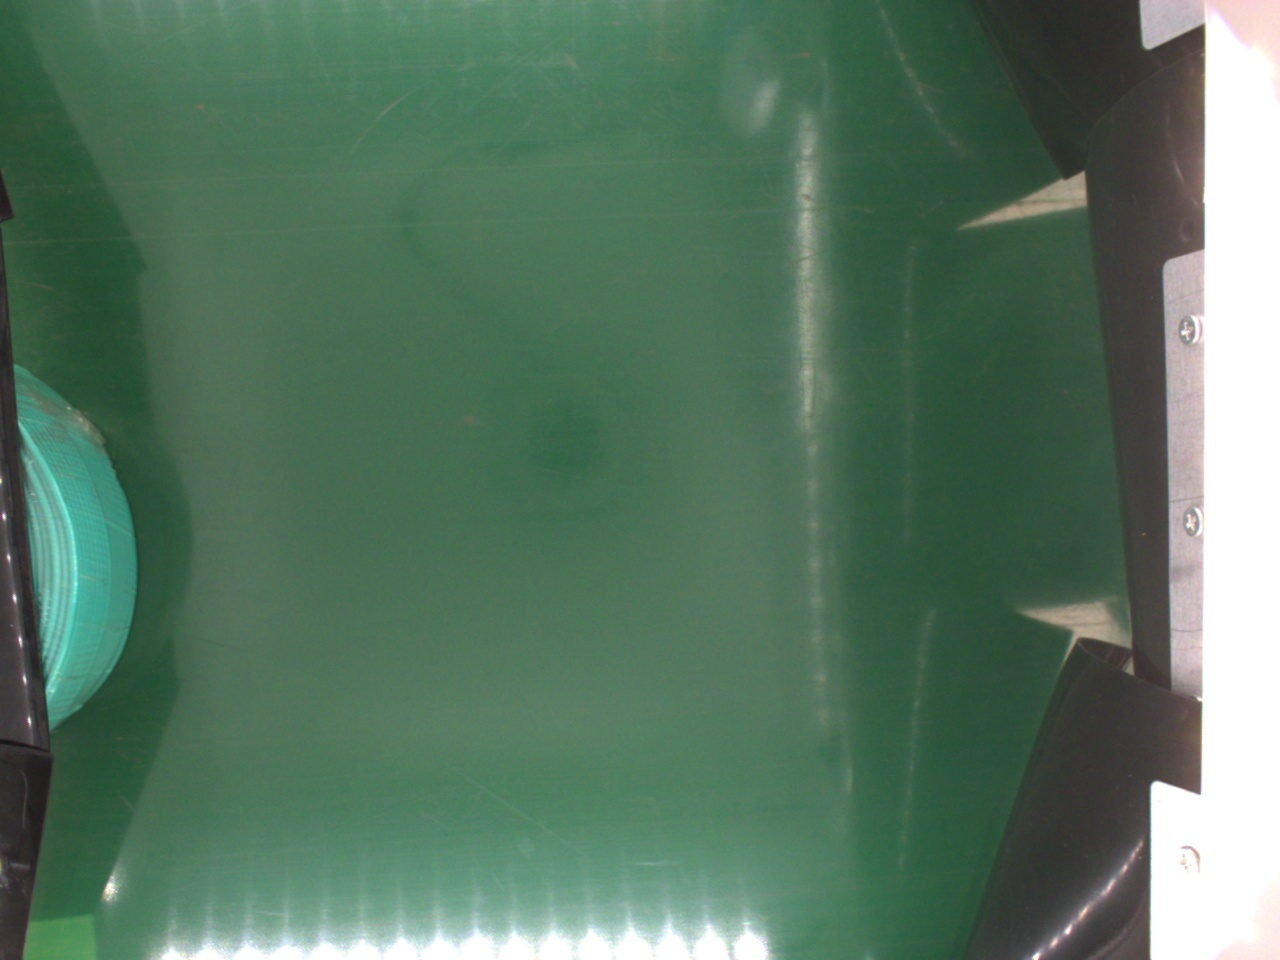green: (11, 364, 141, 726)
